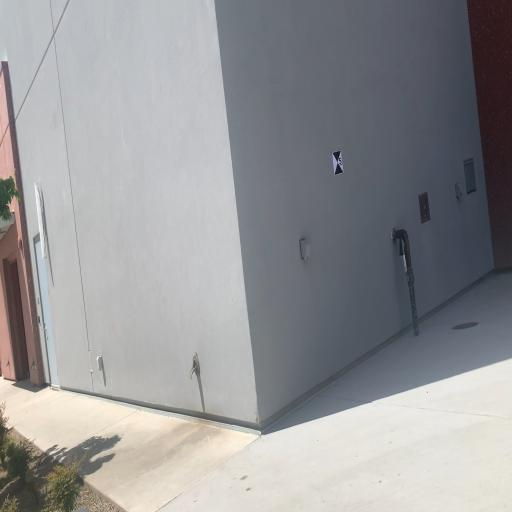target5: (332, 149, 344, 176)
